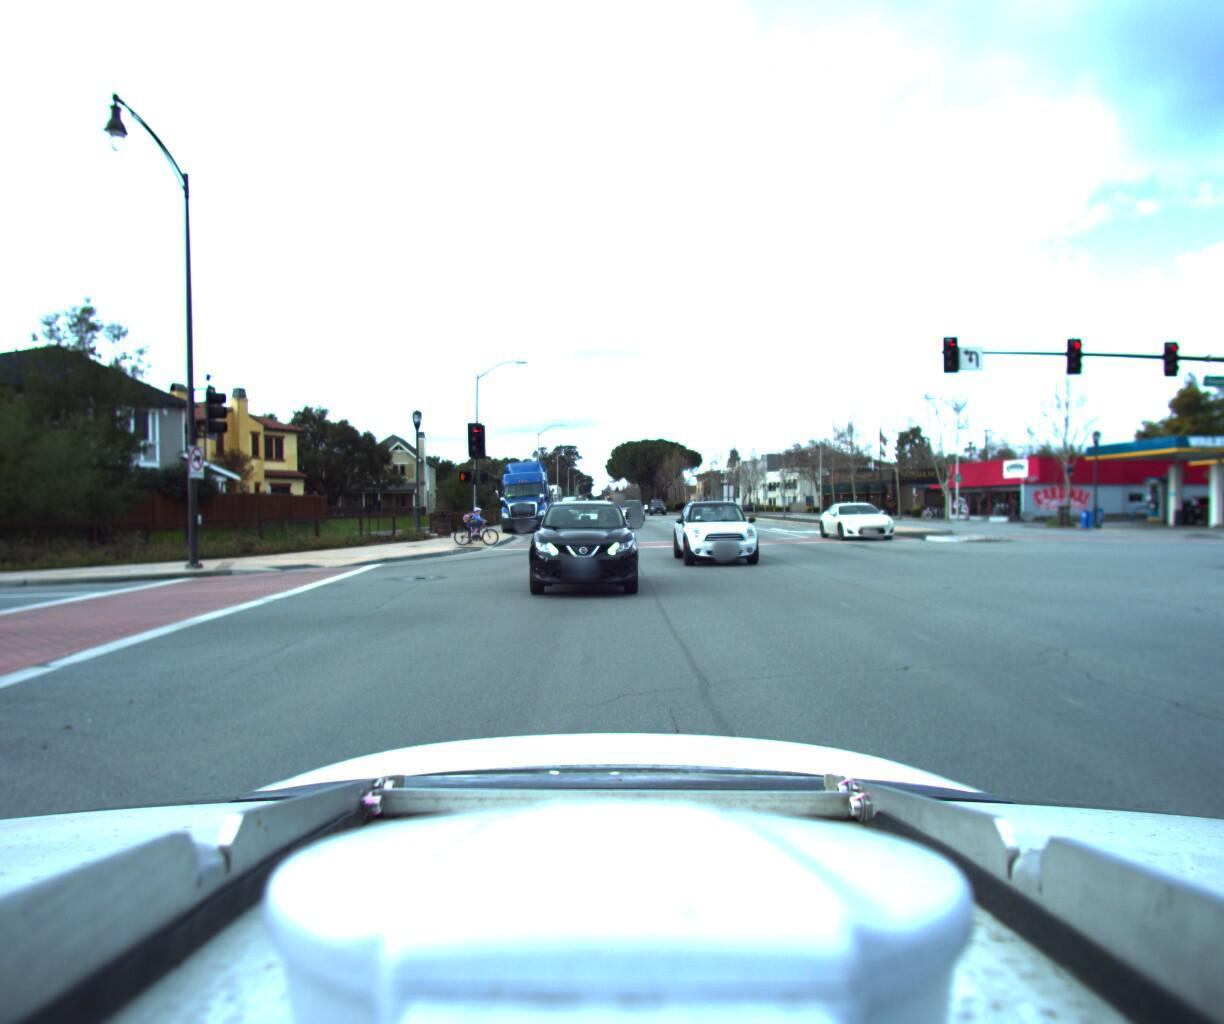bicycle: (441, 501, 500, 542)
car: (526, 495, 644, 610), (668, 495, 771, 573), (819, 492, 897, 537), (1143, 490, 1224, 518), (620, 500, 647, 523)
other_vehicle: (522, 476, 565, 520)
truck: (492, 453, 550, 532)
